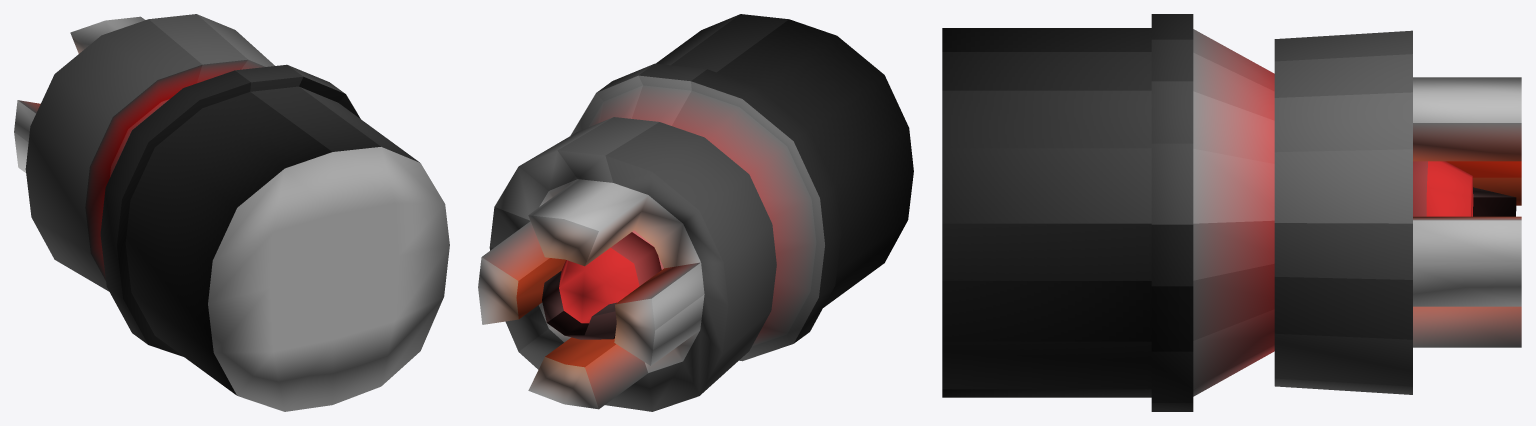
Rendered from laser2.fbx.
3 views of the same model, side by side, from view 1: azimuth 30°, elevation 25°; view 2: azimuth 150°, elevation 25°; view 3: azimuth 270°, elevation 25° (orthographic). The views are drawn at different scales.
Visible parts, largest first — view 1: pCube90; view 2: pCube90, pCube109; view 3: pCube90, pCube109.
Part boxes in pixels (x1,y1,x2,y2): pCube90: (14, 14, 449, 411); pCube90: (478, 14, 913, 411); pCube109: (542, 230, 663, 339); pCube90: (942, 14, 1521, 411); pCube109: (1413, 161, 1516, 216).
Size of the model in its own units: 121 by 121 by 182.
